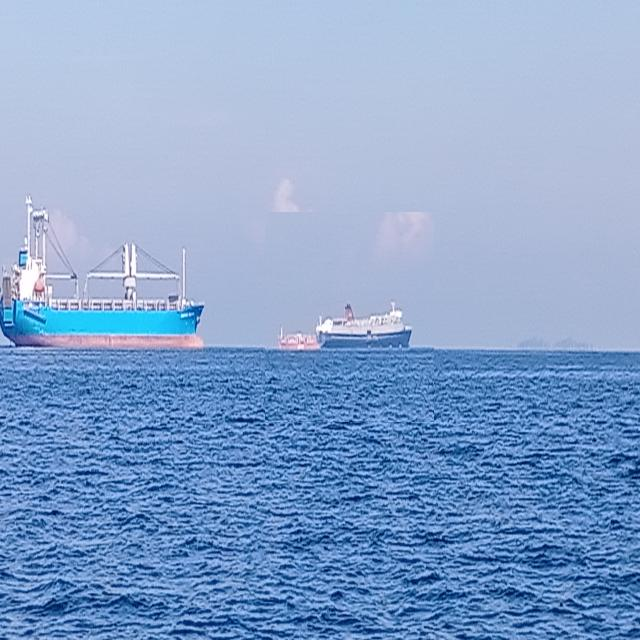PassengerShip: (265, 212, 434, 422)
